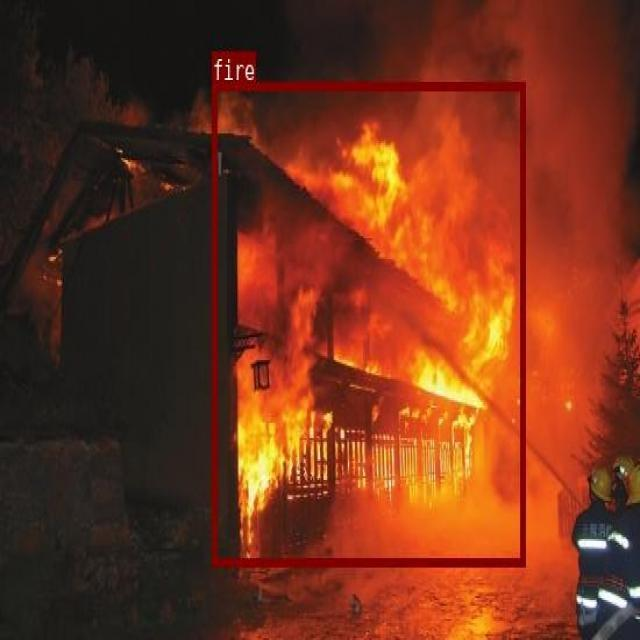fire: (211, 80, 524, 564)
